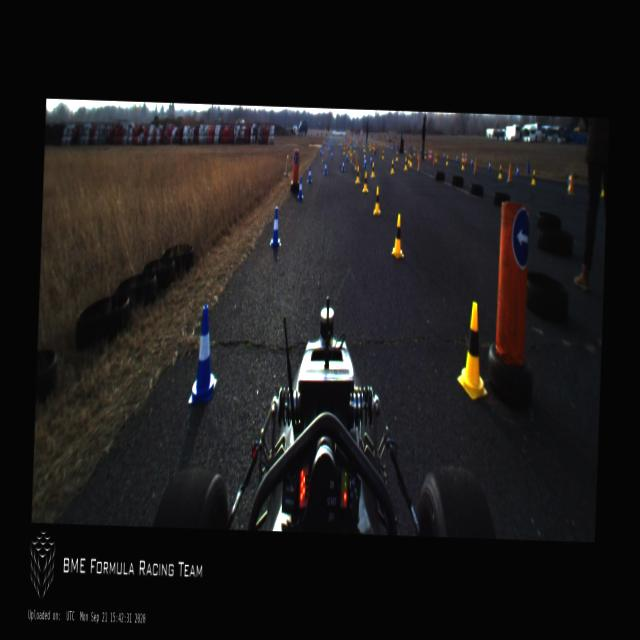blue_cone: (188, 305, 218, 404), (269, 207, 281, 246), (297, 178, 303, 198), (322, 160, 328, 175), (307, 166, 312, 182), (515, 162, 520, 178), (567, 170, 570, 185), (488, 160, 491, 170), (369, 154, 372, 164), (342, 158, 344, 170), (456, 152, 458, 162), (364, 158, 366, 168), (470, 157, 472, 166), (444, 150, 446, 159), (330, 150, 332, 159), (321, 149, 323, 157), (346, 154, 348, 161), (319, 150, 321, 156), (328, 144, 329, 152), (321, 146, 322, 153), (420, 147, 421, 153), (336, 138, 337, 144), (341, 145, 342, 151), (330, 138, 331, 144), (327, 138, 328, 144), (408, 143, 408, 149), (324, 140, 324, 146), (332, 140, 332, 146)
large_orange_cone: (429, 148, 432, 161), (464, 151, 467, 164), (428, 148, 430, 161), (462, 152, 464, 164)
yellow_cone: (456, 302, 491, 400), (391, 213, 405, 258), (373, 186, 381, 214), (362, 172, 369, 192), (354, 165, 360, 182), (530, 168, 536, 184), (403, 157, 408, 170), (371, 162, 375, 177), (498, 164, 502, 178), (390, 160, 394, 173), (600, 185, 604, 198), (567, 176, 570, 190), (409, 153, 412, 166), (461, 158, 464, 170), (407, 154, 410, 163), (349, 148, 352, 156), (396, 150, 398, 160), (434, 153, 436, 162), (424, 149, 426, 158), (348, 146, 351, 152), (364, 149, 366, 158), (446, 156, 448, 164), (382, 150, 384, 158), (413, 148, 415, 156), (343, 146, 345, 154), (362, 139, 364, 147), (354, 145, 356, 152), (362, 144, 364, 151), (404, 146, 406, 152), (371, 142, 373, 148), (368, 140, 369, 147), (341, 139, 342, 145), (391, 142, 392, 148), (387, 141, 388, 147), (356, 140, 356, 146), (380, 140, 380, 146)
